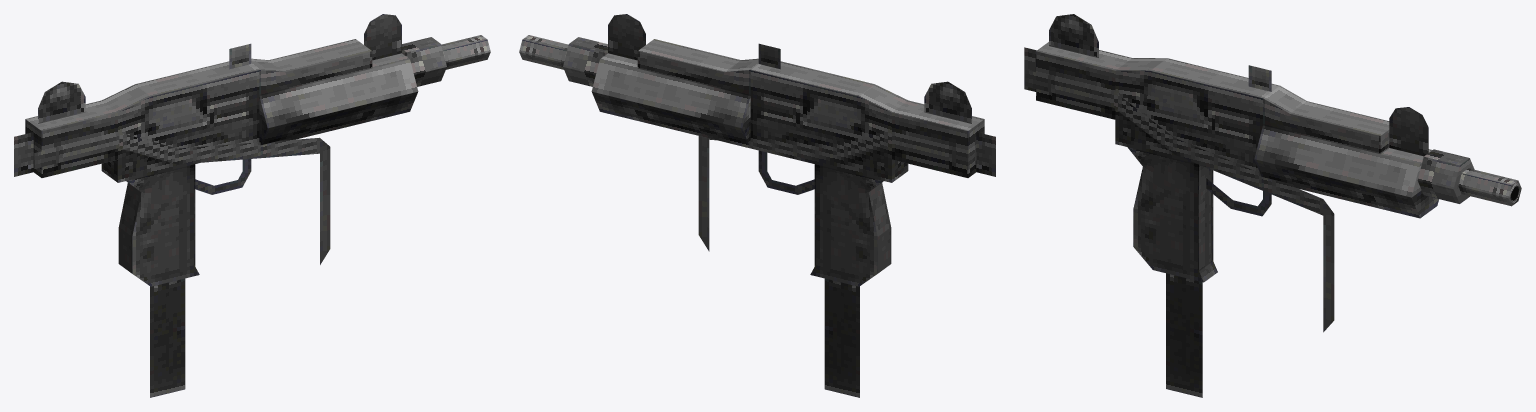
Rendered from uzi__N001_uzi_low_v0200.glb.
3 views of the same model, side by side, from view 1: azimuth 30°, elevation 25°; view 2: azimuth 150°, elevation 25°; view 3: azimuth 330°, elevation 25° (orthographic). The views are drawn at different scales.
Parts seen in each view (by area): view 1: N001_uzi_low_v0200; view 2: N001_uzi_low_v0200; view 3: N001_uzi_low_v0200.
Boxes of the visible parts, bbox=[...] form: N001_uzi_low_v0200: bbox=[14, 14, 490, 397]; N001_uzi_low_v0200: bbox=[519, 14, 995, 397]; N001_uzi_low_v0200: bbox=[1024, 14, 1521, 397].
Size of the model in its own units: 0.5631 by 0.3866 by 0.0686.
Materials: 2 (2 with a texture image).
